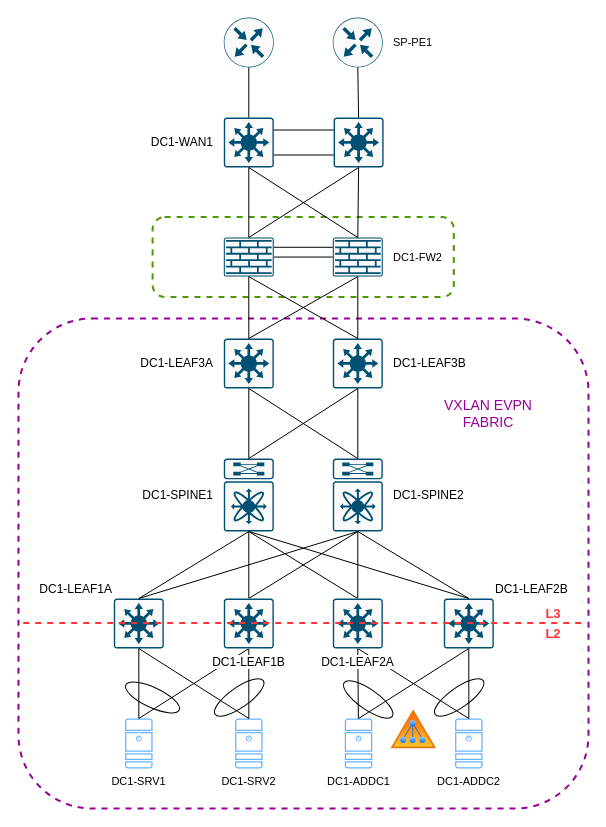
Some shapes in this 606 by 827 pixel diagram are drawn without their labels. The shapes that lost their labels are listed below. From the top down, each one's centre as x and y in pixels, then its label:
[248,42]: ISP-PE1
[358,142]: DC1-WAN2
[248,256]: DC1-FW1
[413,728]: AD
